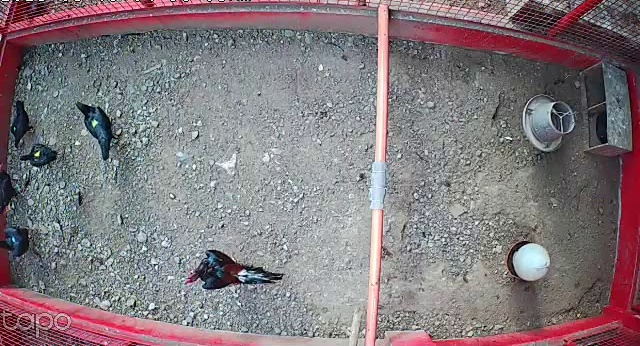Chicken: (72, 99, 122, 162), (0, 222, 33, 265), (0, 159, 26, 212), (10, 99, 35, 148), (17, 143, 63, 166)
Rooster: (181, 245, 286, 292)
Saddle_Color_Blue: (12, 236, 16, 242)
Saddle_Color_Yellow: (35, 151, 39, 158)
Saddle_Color_YellowGreen: (90, 117, 99, 128)
